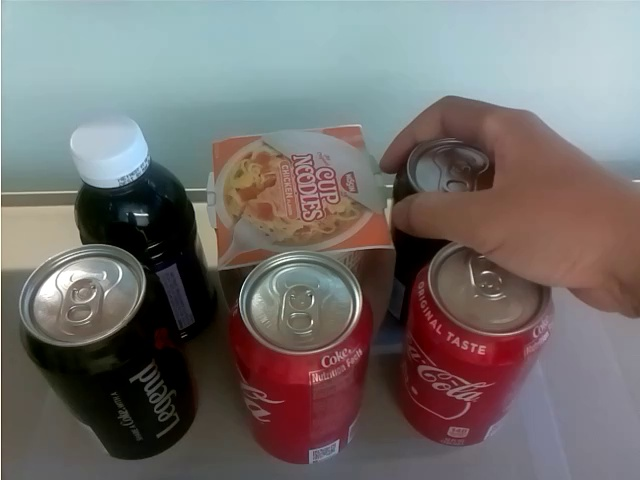cocacola: (16, 246, 197, 466), (221, 246, 374, 468), (396, 245, 553, 449), (407, 140, 498, 199)
hand: (378, 88, 631, 318)
juice: (67, 117, 214, 347)
noodles: (203, 122, 392, 314)
